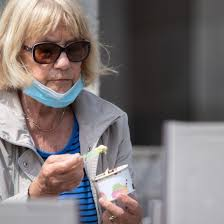mask_weared_incorrect: (30, 38, 91, 104)
